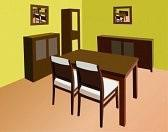chair: (75, 59, 120, 130), (49, 54, 81, 116)
diningtable: (55, 46, 142, 128)
